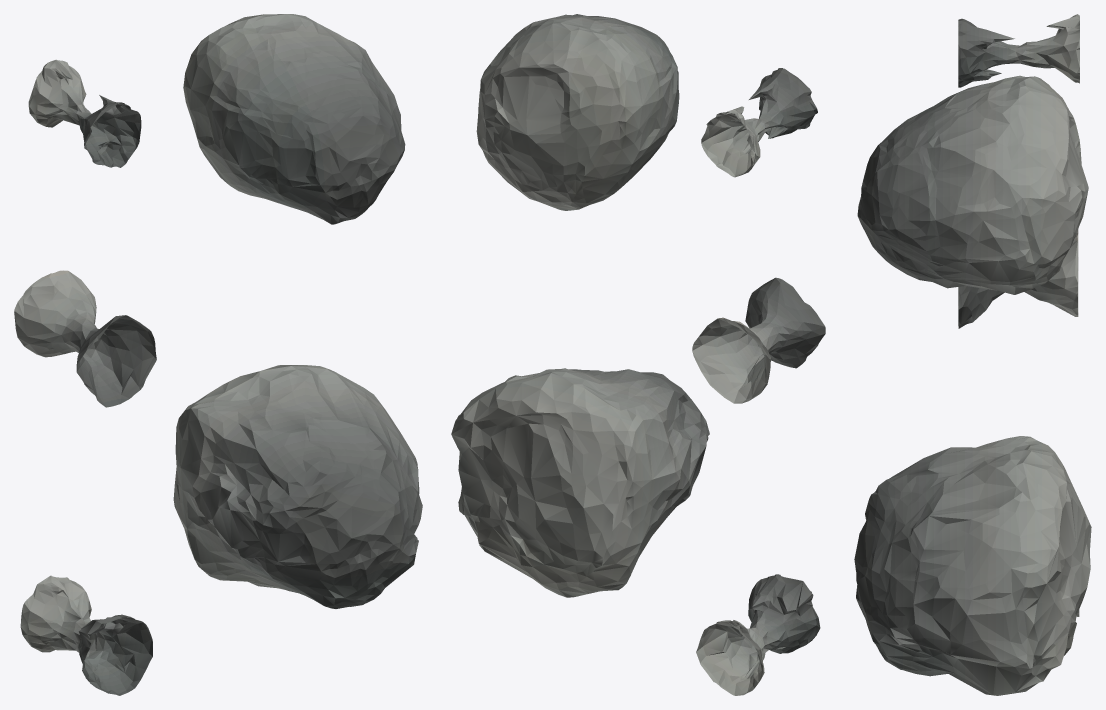
The model's file is Rocks.fbx.
3 views of the same model, side by side, from view 1: azimuth 30°, elevation 25°; view 2: azimuth 150°, elevation 25°; view 3: azimuth 270°, elevation 25° (orthographic). The views are drawn at different scales.
Parts seen in each view (by area): view 1: PolySphere (×2), PolySphere2, PolySphere1.001, PolySphere1; view 2: PolySphere (×2), PolySphere2, PolySphere1.001, PolySphere1; view 3: PolySphere (×2), PolySphere1, PolySphere2.
Part boxes in pixels (x1,y1,x2,y2): PolySphere (×2): [173, 14, 422, 608]; PolySphere2: [14, 270, 156, 407]; PolySphere1.001: [20, 575, 152, 695]; PolySphere1: [28, 59, 141, 167]; PolySphere (×2): [451, 14, 709, 597]; PolySphere2: [692, 277, 825, 403]; PolySphere1.001: [696, 574, 820, 695]; PolySphere1: [701, 68, 817, 177]; PolySphere (×2): [854, 75, 1091, 695]; PolySphere1: [958, 14, 1079, 87]; PolySphere2: [958, 229, 1078, 328].
Bounding box in the file's own units: 1381 × 2322 × 801.
Materials: 1 (1 with a texture image).
